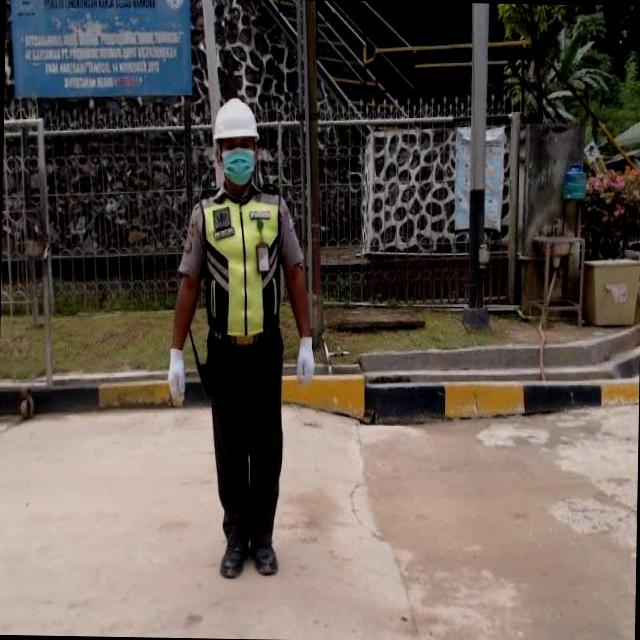boots: (250, 532, 282, 584), (218, 537, 252, 583)
gloves: (156, 336, 197, 409), (289, 318, 323, 384)
helmet: (212, 89, 268, 146)
vest: (200, 182, 292, 341)
